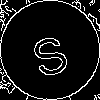S: (25, 25, 73, 80)
